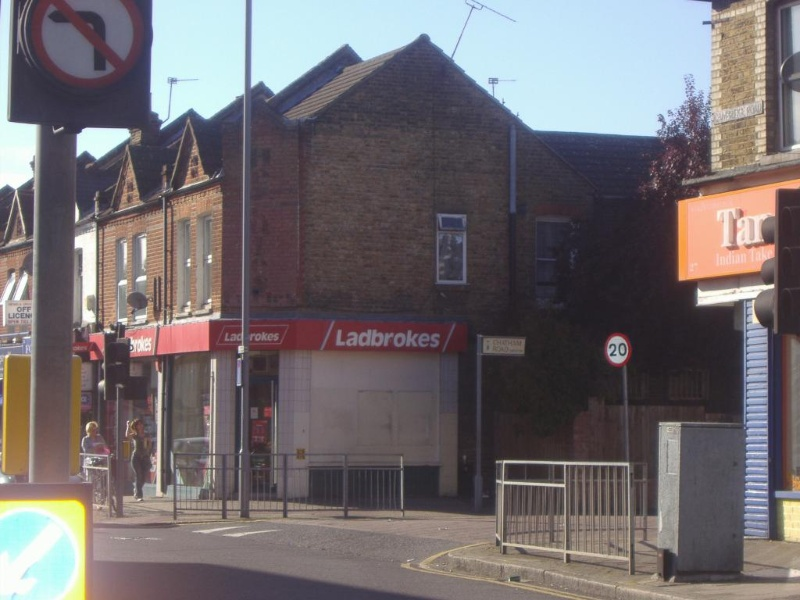no_left_turn: (22, 1, 145, 86)
speed_limit_20: (603, 333, 630, 366)
